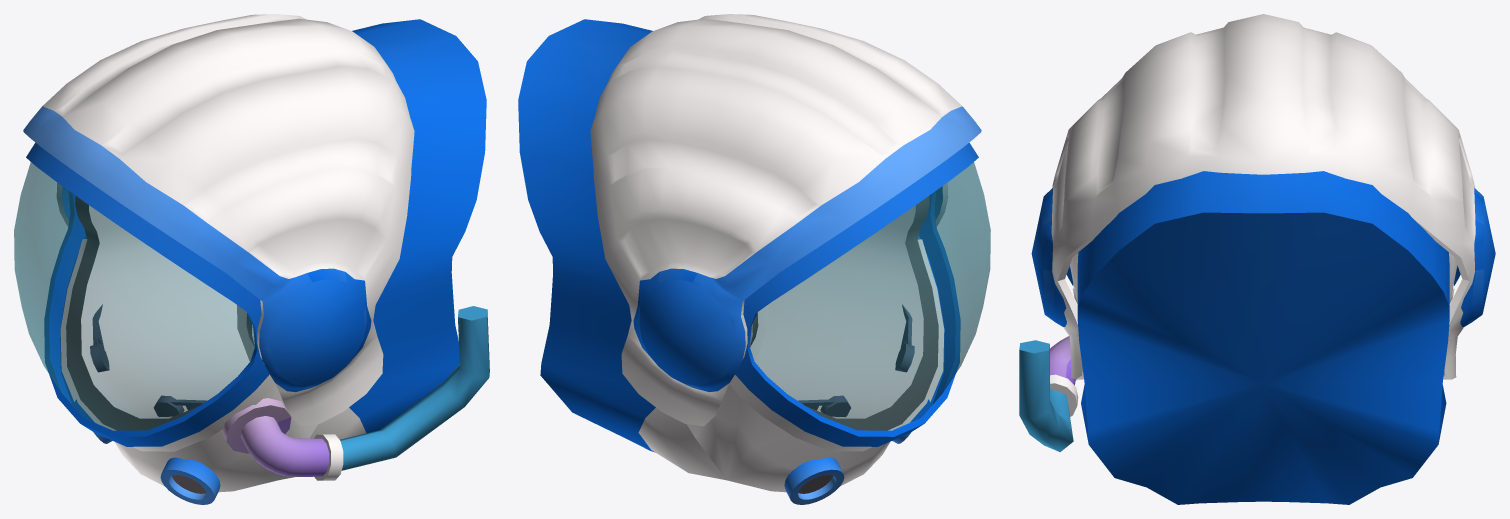
File: skin_astronaut002.fbx
The picture shows the model from 3 angles, left to right: view 1: azimuth 30°, elevation 25°; view 2: azimuth 150°, elevation 25°; view 3: azimuth 270°, elevation 25°; orthographic projection. The views are drawn at different scales.
Visible parts, largest first — view 1: skin_astronaut002; view 2: skin_astronaut002; view 3: skin_astronaut002.
Boxes of the visible parts, <box> form: skin_astronaut002: <box>14,14,489,504</box>; skin_astronaut002: <box>518,14,990,504</box>; skin_astronaut002: <box>1019,14,1495,504</box>.
Size of the model in its own units: 87.65 by 84.6 by 83.58.
Materials: 3 (2 with a texture image).
